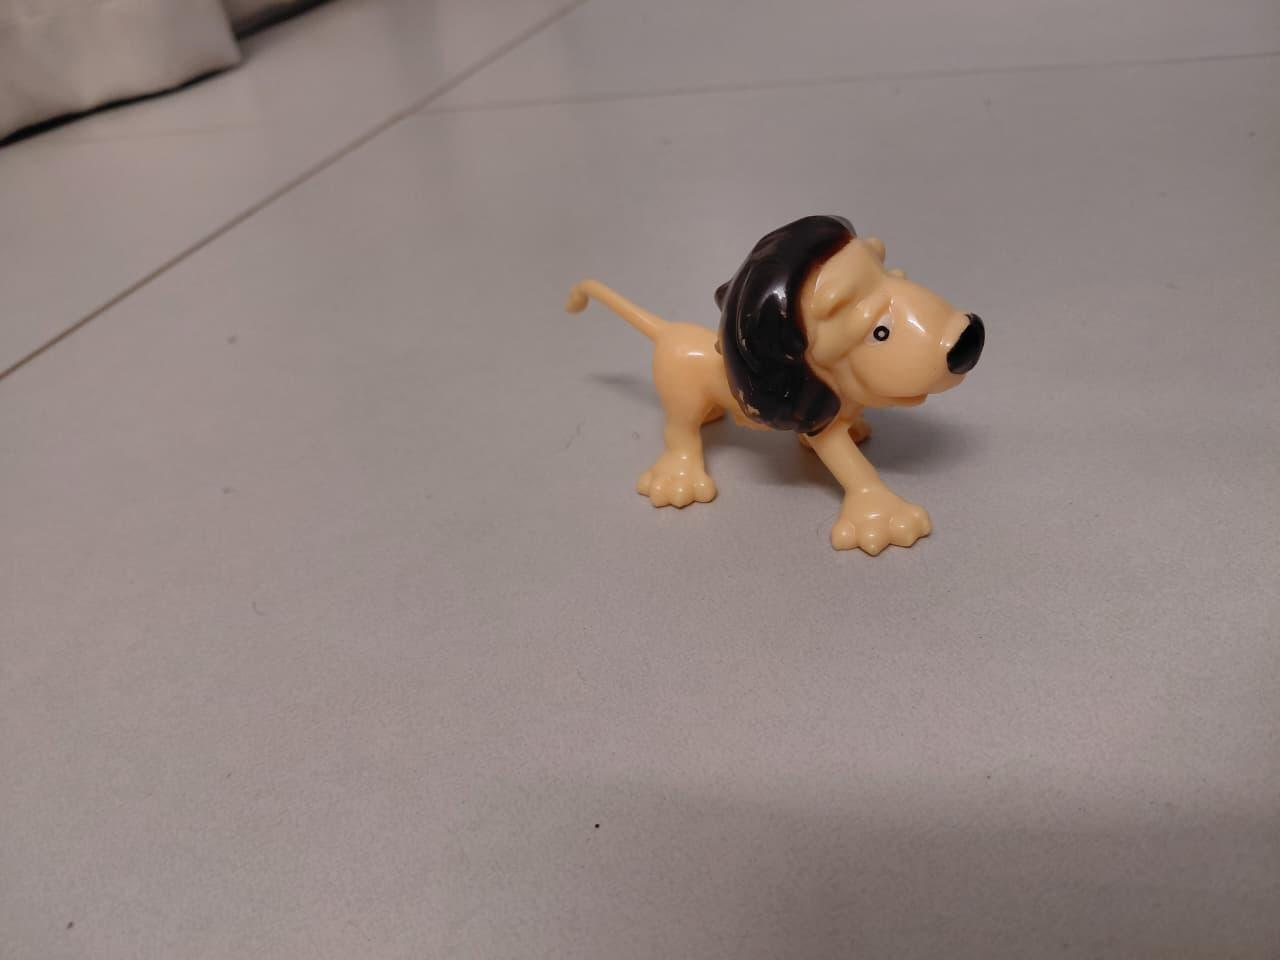lion: (506, 176, 1034, 590)
